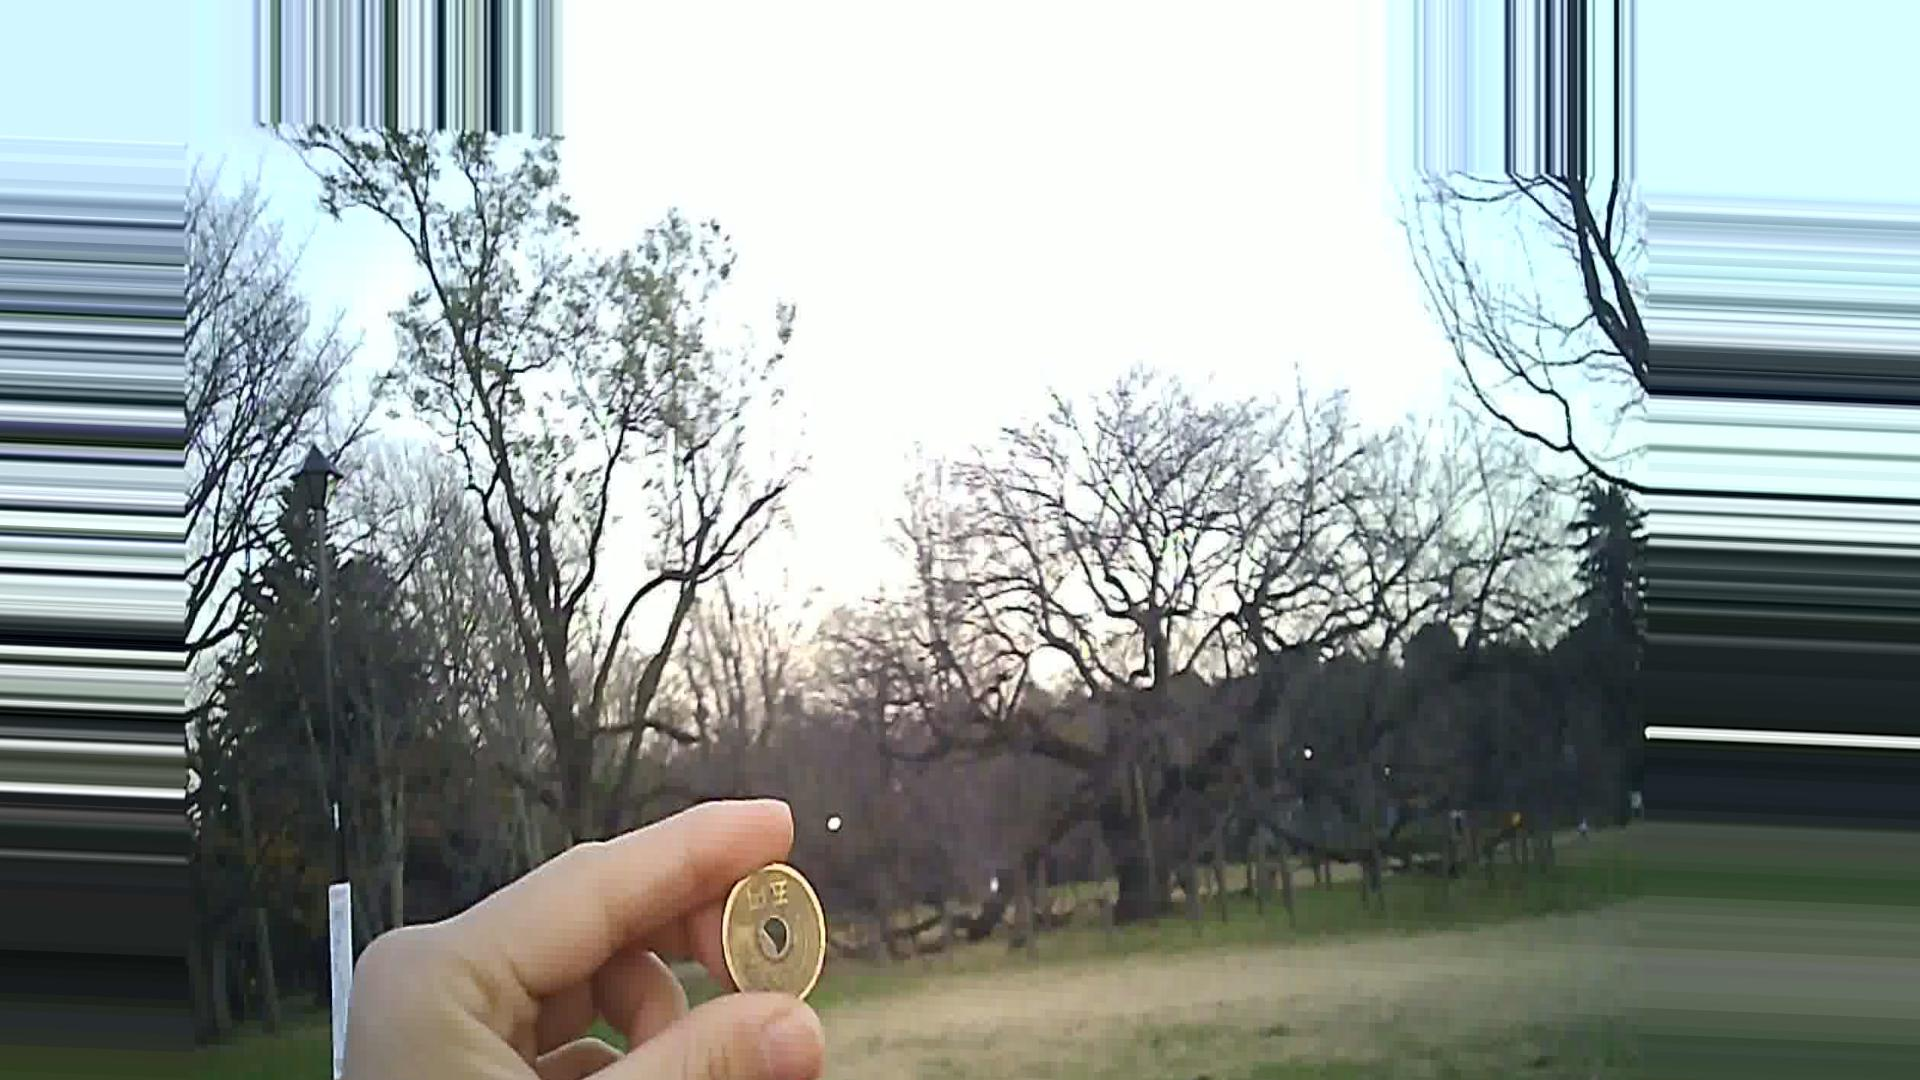5 Yen: (713, 848, 822, 1005)
